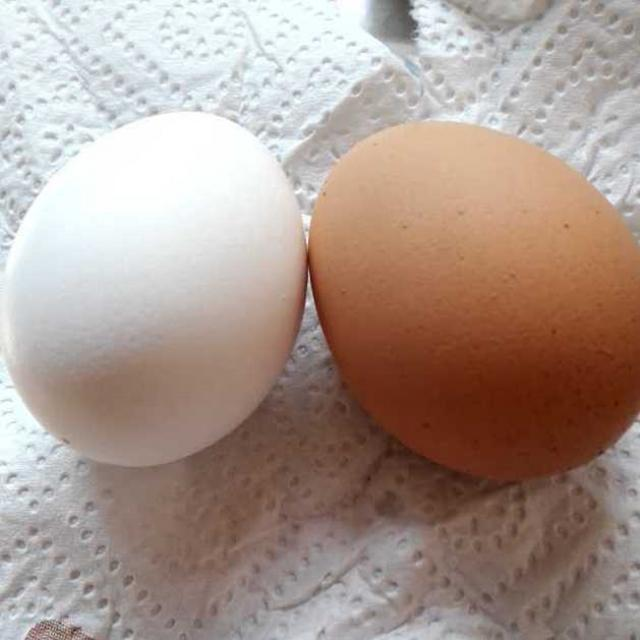egg: (10, 98, 621, 509)
